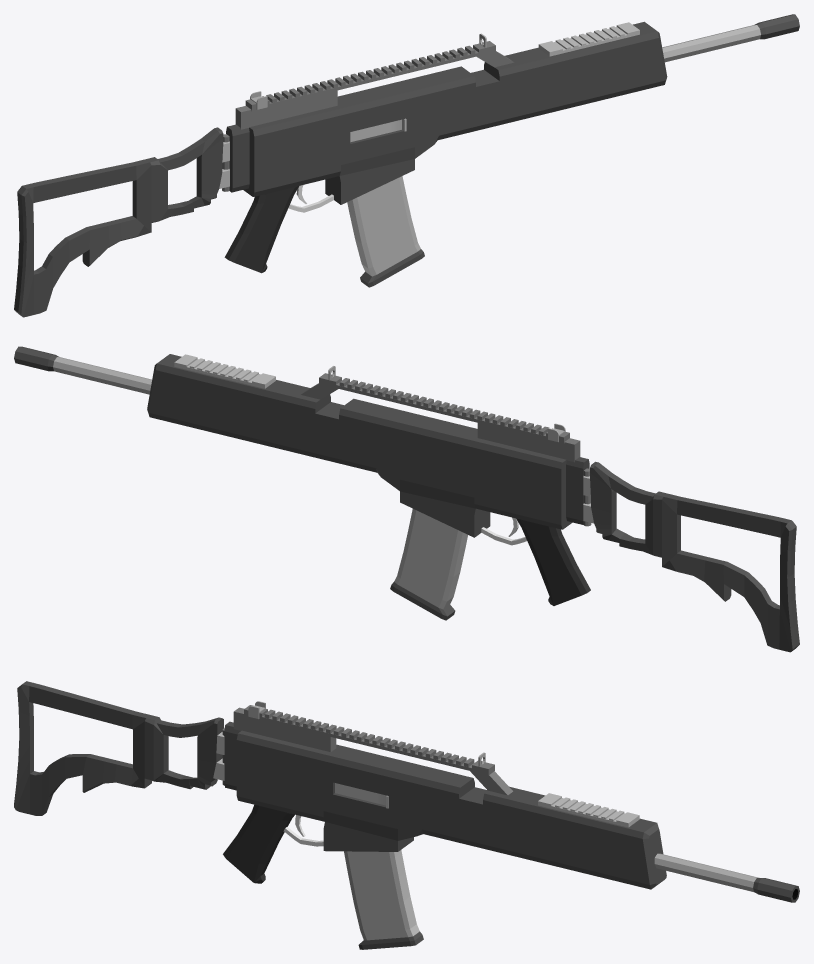
3 renders of one model, top to bottom at view 1: azimuth 30°, elevation 25°; view 2: azimuth 150°, elevation 25°; view 3: azimuth 330°, elevation 25°, orthographic.
Parts seen in each view (by area): view 1: Cube, Cylinder, Cube.005, Cube.004, Cube.002, Cylinder.001, Cube.003, Cube.001, Cube.007, Cube.006; view 2: Cube, Cylinder, Cube.005, Cube.004, Cube.002, Cylinder.001, Cube.003, Cube.001, Cube.007; view 3: Cube, Cylinder, Cube.005, Cube.002, Cube.004, Cylinder.001, Cube.003, Cube.001, Cube.007, Cube.006.
Boxes of the visible parts, x1,y1,x2,y2 form: Cube: [243, 21, 667, 204]; Cylinder: [14, 127, 229, 317]; Cube.005: [347, 176, 424, 287]; Cube.004: [224, 186, 298, 273]; Cube.002: [245, 41, 495, 111]; Cylinder.001: [662, 14, 799, 62]; Cube.003: [235, 51, 513, 129]; Cube.001: [538, 22, 639, 56]; Cube.007: [226, 124, 249, 192]; Cube.006: [350, 118, 406, 142]; Cube: [147, 354, 572, 537]; Cylinder: [583, 461, 799, 652]; Cube.005: [390, 509, 467, 620]; Cube.004: [516, 518, 590, 605]; Cube.002: [319, 373, 569, 443]; Cylinder.001: [14, 346, 151, 394]; Cube.003: [301, 383, 580, 462]; Cube.001: [174, 354, 275, 388]; Cube.007: [566, 457, 589, 524]; Cube: [236, 730, 666, 889]; Cylinder: [14, 681, 224, 815]; Cube.005: [344, 850, 423, 949]; Cube.002: [244, 705, 494, 775]; Cube.004: [223, 804, 294, 883]; Cylinder.001: [654, 853, 799, 902]; Cube.003: [233, 707, 512, 795]; Cube.001: [538, 793, 639, 827]; Cube.007: [224, 721, 240, 790]; Cube.006: [335, 783, 388, 808].
Bounding box in the file's own units: 1244 × 337 × 45.71.
